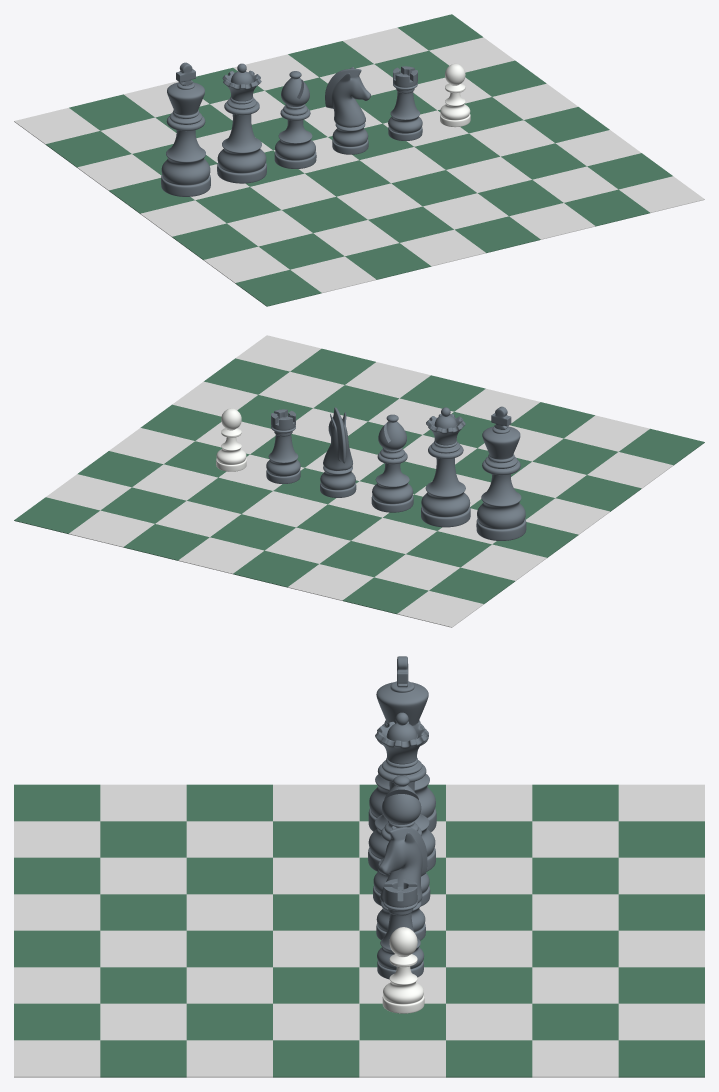
3 renders of one model, top to bottom at view 1: azimuth 30°, elevation 25°; view 2: azimuth 150°, elevation 25°; view 3: azimuth 270°, elevation 25°, orthographic. The views are drawn at different scales.
Visible parts, largest first — view 1: Board, King, Queen, Knight, Bishop, Rook, Pawn; view 2: Board, King, Queen, Bishop, Knight, Rook, Pawn; view 3: Board, Queen, King, Knight, Pawn, Rook, Bishop.
Part boxes in pixels (x1,y1,x2,y2): Board: [14, 14, 704, 306]; King: [161, 62, 210, 196]; Queen: [217, 63, 266, 183]; Knight: [325, 67, 370, 154]; Bishop: [274, 71, 316, 168]; Rook: [388, 66, 422, 140]; Pawn: [440, 63, 470, 127]; Board: [14, 335, 704, 627]; King: [476, 406, 526, 540]; Queen: [421, 407, 470, 527]; Bishop: [371, 414, 413, 512]; Knight: [320, 407, 356, 497]; Rook: [266, 409, 300, 483]; Pawn: [216, 408, 246, 471]; Board: [14, 784, 704, 1077]; Queen: [368, 712, 435, 871]; King: [368, 656, 436, 831]; Knight: [376, 826, 427, 940]; Pawn: [382, 927, 424, 1013]; Rook: [377, 878, 423, 979]; Bishop: [373, 775, 430, 906].
Bounding box in the file's own units: 8 × 2.16 × 8.
